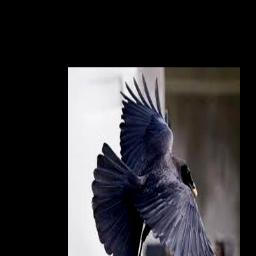Crow: (92, 77, 226, 256)
